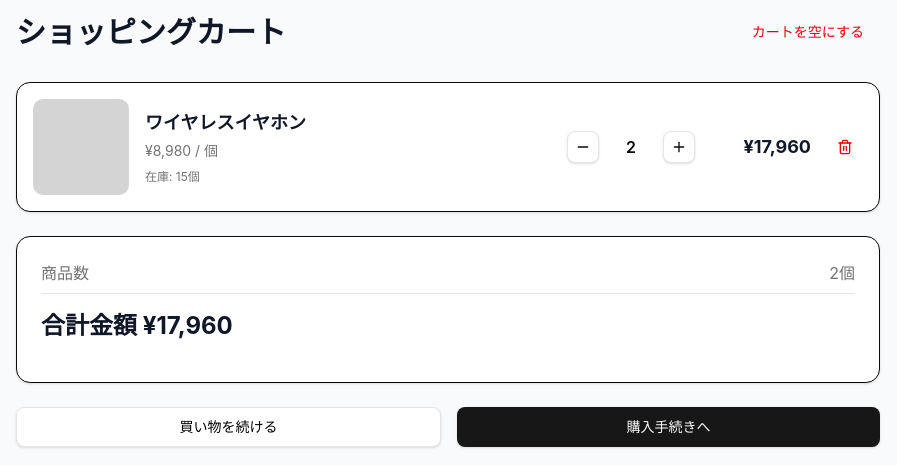
Test: Cart › 数量を増やすボタンで数量が増える
Expected: the text "2" is shown, [567,131,695,163]
Note: +ボタンをクリック
Click the button named "+". click: x=679, y=147
box: [663,131,695,163]
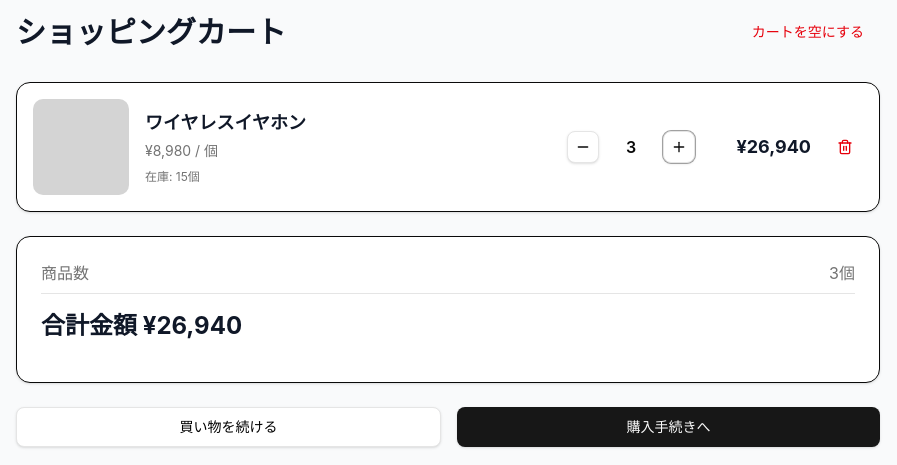
Expected: the text "3" is shown, [626,137,636,157]
